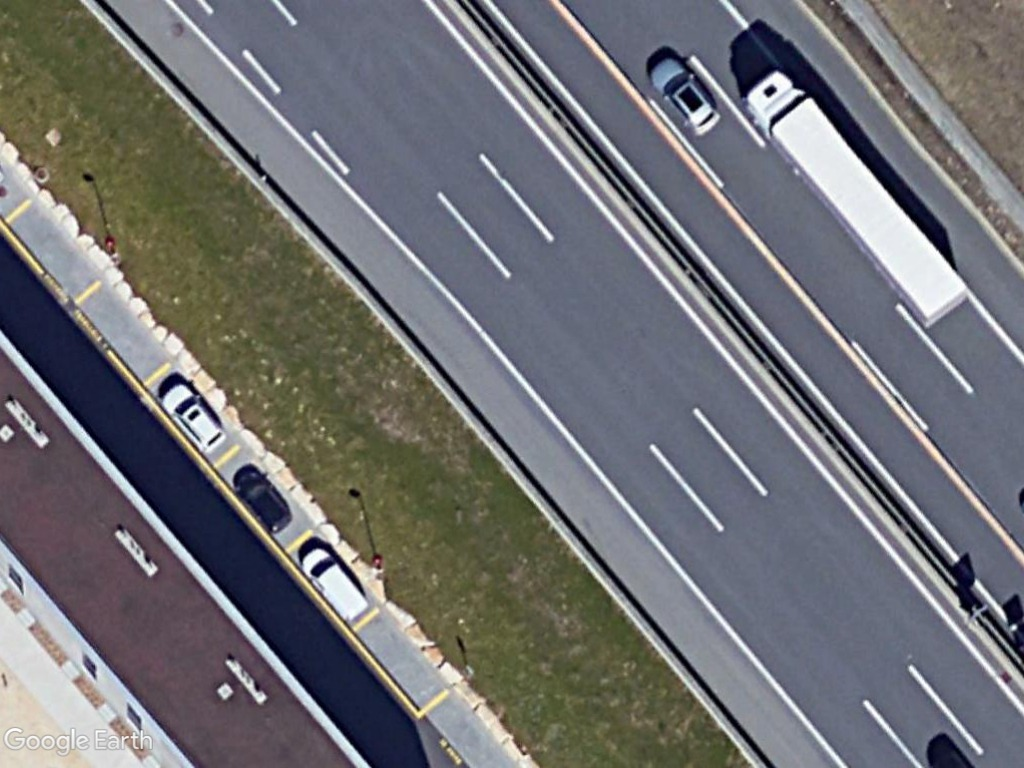car: (644, 53, 722, 137), (159, 382, 228, 453)
longvehicle: (742, 69, 974, 326)
van: (298, 546, 371, 621)
